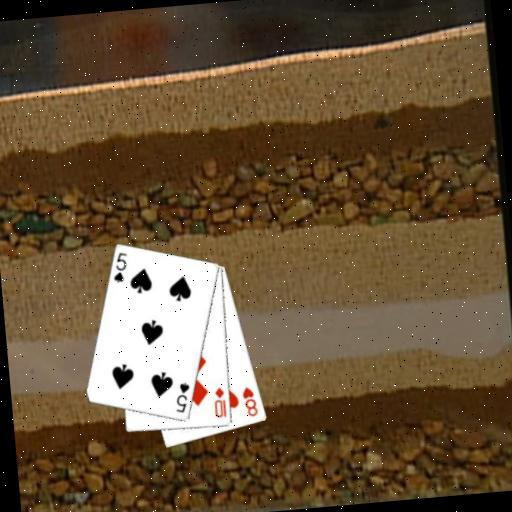10D: (211, 384, 229, 419)
5S: (171, 380, 194, 416), (109, 250, 131, 286)
8H: (239, 383, 260, 418)
